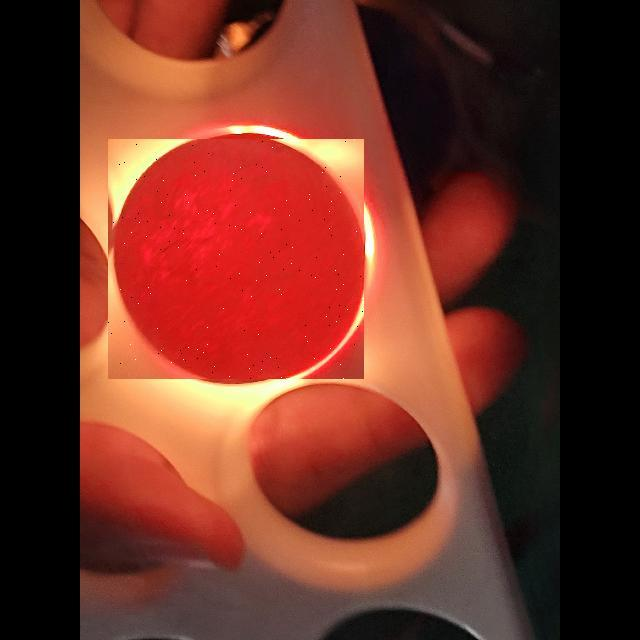Infertile: (108, 139, 364, 379)
